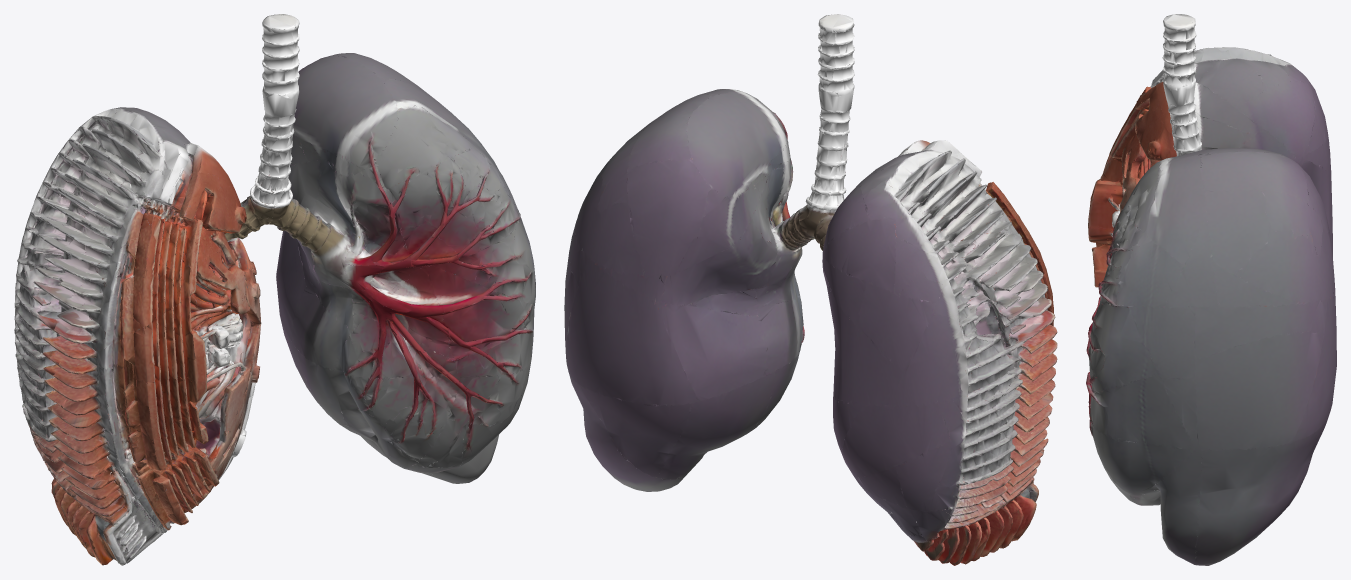
Rendered from hybrid-lungs.glb.
The picture shows the model from 3 angles, left to right: view 1: azimuth 30°, elevation 25°; view 2: azimuth 150°, elevation 25°; view 3: azimuth 270°, elevation 25°; orthographic projection. The views are drawn at different scales.
Parts seen in each view (by area): view 1: Mesh_0; view 2: Mesh_0; view 3: Mesh_0.
Boxes of the visible parts, bbox=[...] form: Mesh_0: bbox=[14, 14, 535, 565]; Mesh_0: bbox=[564, 14, 1057, 565]; Mesh_0: bbox=[1086, 14, 1336, 565].
Bounding box in the file's own units: 1.76 × 1.9 × 0.9341.
1 material, 1 textured.
